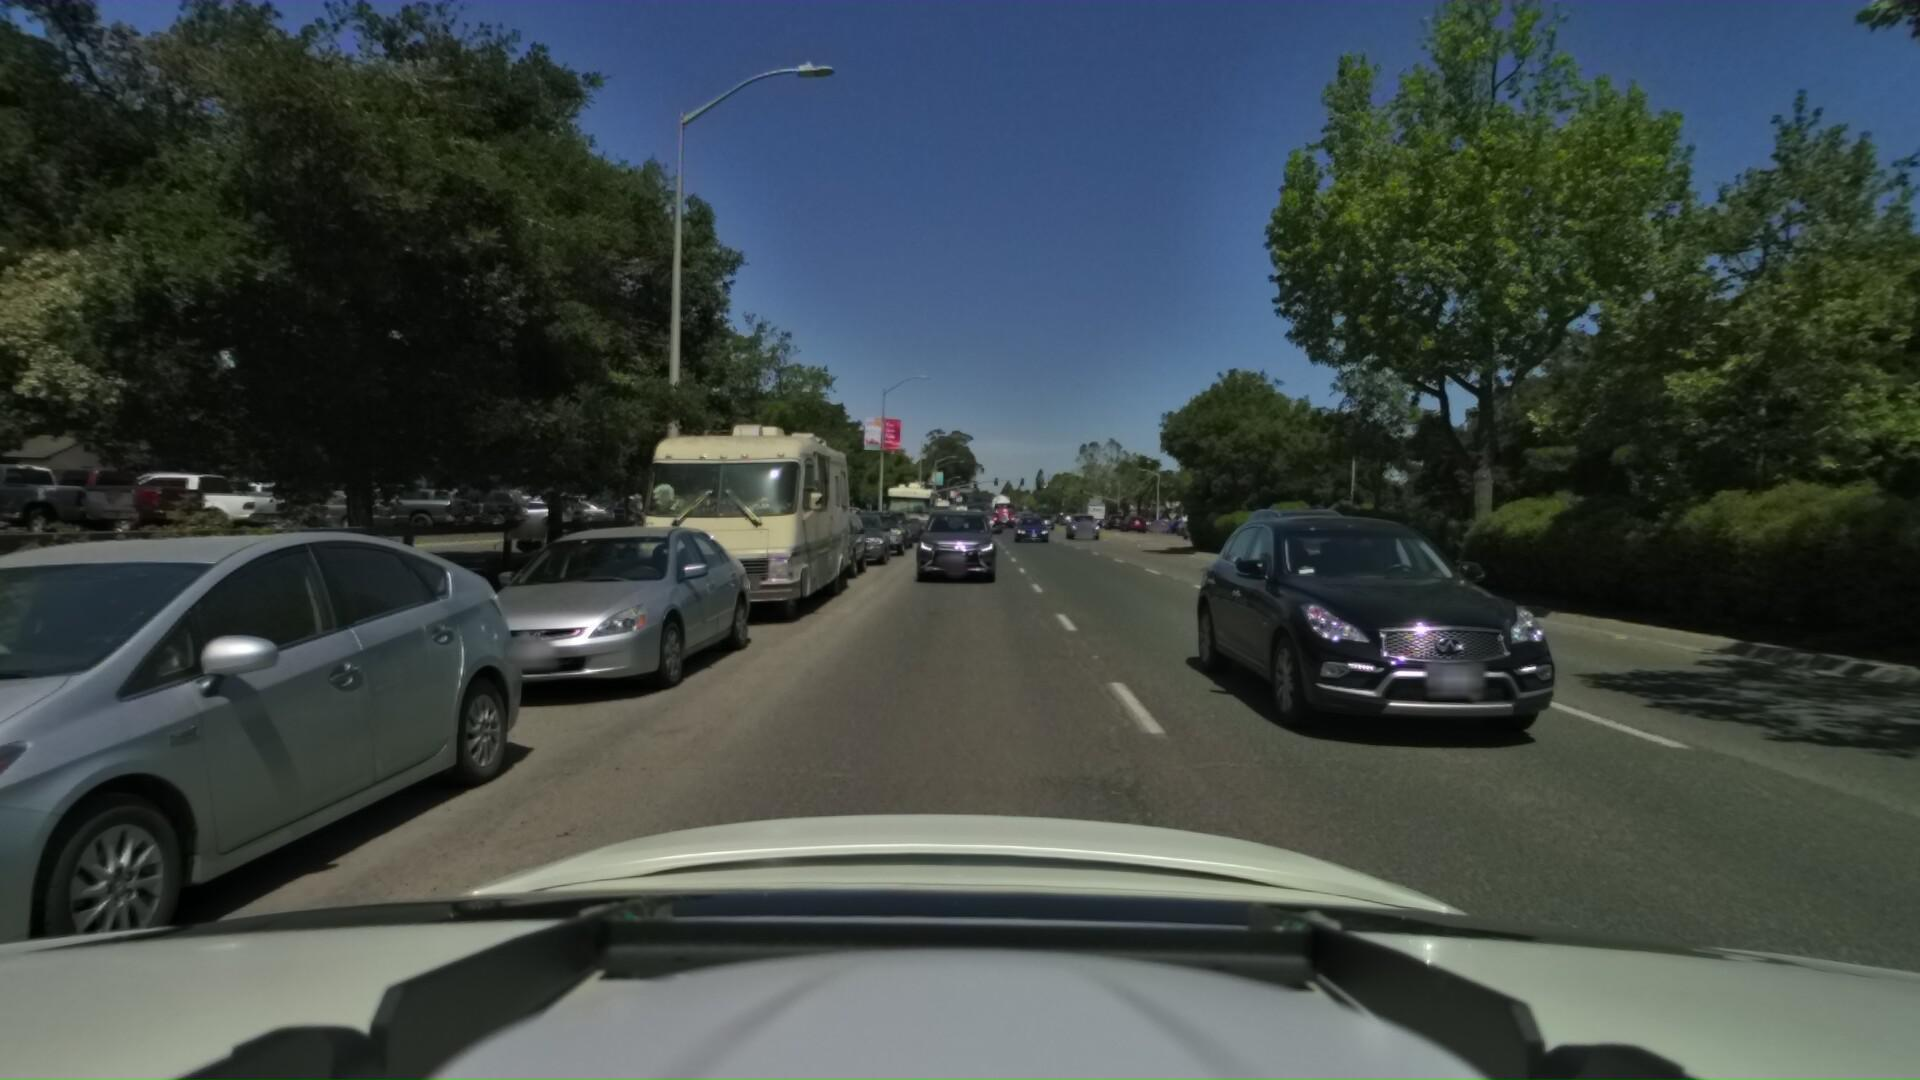car: (1154, 495, 1491, 707), (444, 509, 775, 725), (1209, 495, 1352, 587), (903, 495, 997, 580), (781, 502, 872, 579), (829, 506, 893, 563), (855, 502, 906, 555), (864, 502, 916, 549), (889, 512, 924, 541), (1010, 510, 1046, 539), (1060, 508, 1095, 535)
other_vehicle: (615, 397, 869, 638), (882, 471, 938, 539)
